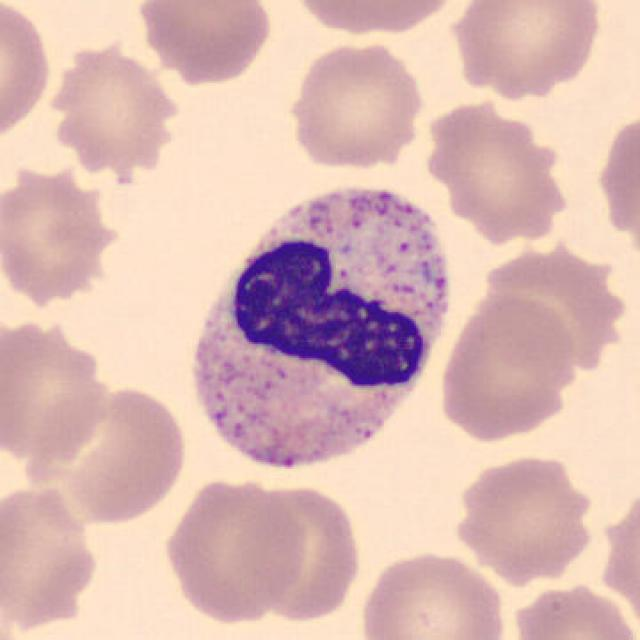Neutrophil: (174, 169, 459, 492)
RBC: (156, 474, 310, 626), (39, 37, 192, 189), (436, 288, 582, 444), (419, 103, 572, 250), (52, 379, 192, 527), (0, 155, 133, 310), (448, 449, 599, 584), (282, 37, 428, 173), (486, 242, 624, 385), (235, 480, 368, 624), (0, 310, 116, 468), (0, 479, 105, 636), (446, 0, 606, 99), (355, 546, 510, 640), (132, 0, 278, 85), (586, 101, 640, 251), (0, 0, 55, 146), (507, 580, 638, 640), (284, 0, 468, 37)
